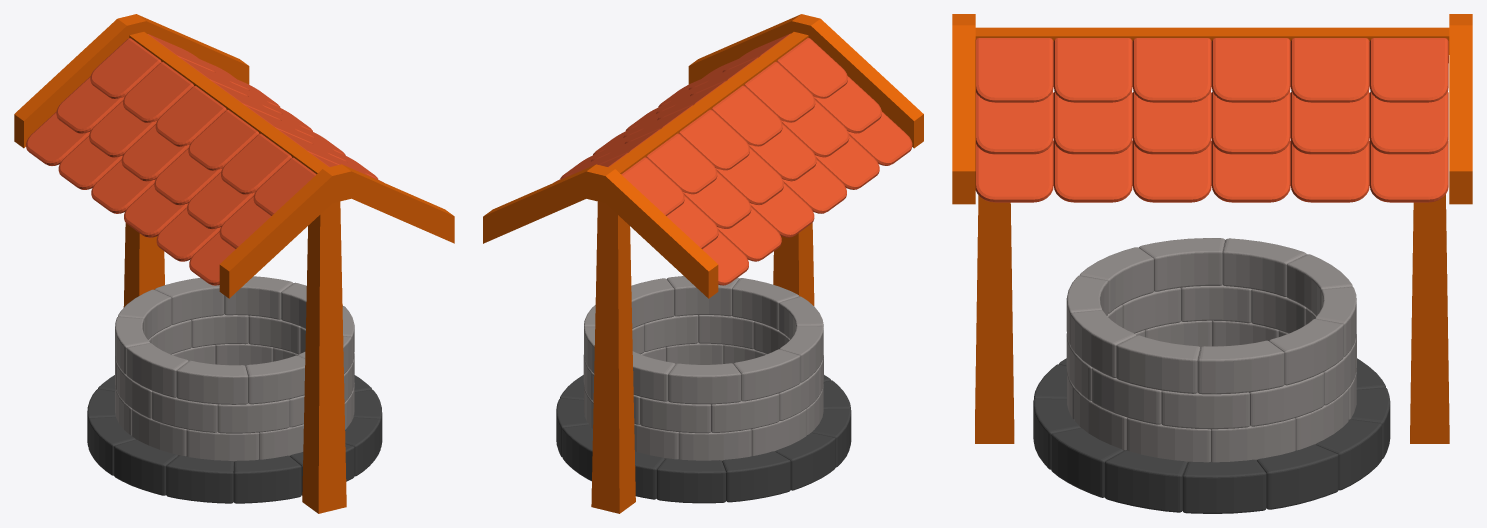
File: well (1).fbx
3 views of the same model, side by side, from view 1: azimuth 30°, elevation 25°; view 2: azimuth 150°, elevation 25°; view 3: azimuth 270°, elevation 25° (orthographic). The views are drawn at different scales.
Visible parts, largest first — view 1: Cube.003, Cube.009, Cube, Cube.004, Cube.010, Cube.011, Cube.002, Cube.006, Cube.001, Cube.007, Cube.008, Cube.005 (+3 smaller); view 2: Cube.003, Cube.009, Cube, Cube.005, Cube.010, Cube.011, Cube.002, Cube.007, Cube.001, Cube.006, Cube.008, Cube.004 (+3 smaller); view 3: Cube.012, Cube.003, Cube.013, Cube.014, Cube, Cube.002, Cube.001, Cube.005, Cube.004, Cube.008, Cube.006, Cube.007.
Part boxes in pixels (box(x1,y1,x2,y2)): Cube.003: box(115, 276, 354, 404); Cube.009: box(90, 38, 316, 215); Cube: box(87, 375, 382, 503); Cube.004: box(302, 201, 346, 513); Cube.010: box(56, 76, 271, 248); Cube.011: box(26, 111, 235, 285); Cube.002: box(115, 314, 354, 433); Cube.006: box(219, 164, 454, 298); Cube.001: box(115, 343, 354, 461); Cube.007: box(14, 14, 249, 148); Cube.008: box(129, 32, 328, 174); Cube.005: box(123, 223, 164, 307); Cube.003: box(584, 276, 823, 404); Cube.009: box(621, 38, 847, 215); Cube: box(556, 375, 851, 503); Cube.005: box(591, 201, 635, 513); Cube.010: box(666, 76, 881, 249); Cube.011: box(702, 112, 912, 285); Cube.002: box(583, 315, 823, 433); Cube.007: box(483, 164, 718, 298); Cube.001: box(584, 342, 823, 460); Cube.006: box(688, 14, 923, 148); Cube.008: box(609, 32, 808, 174); Cube.004: box(773, 223, 814, 305); Cube.012: box(975, 38, 1448, 102); Cube.003: box(1066, 238, 1356, 394); Cube.013: box(975, 91, 1448, 154); Cube.014: box(975, 140, 1448, 202); Cube: box(1033, 358, 1390, 513); Cube.002: box(1066, 284, 1356, 429); Cube.001: box(1067, 320, 1356, 462); Cube.005: box(1410, 194, 1449, 443); Cube.004: box(975, 195, 1014, 443); Cube.008: box(975, 27, 1449, 54); Cube.006: box(952, 14, 975, 204); Cube.007: box(1449, 14, 1472, 204).
Size of the model in its own units: 226 by 294 by 330.
